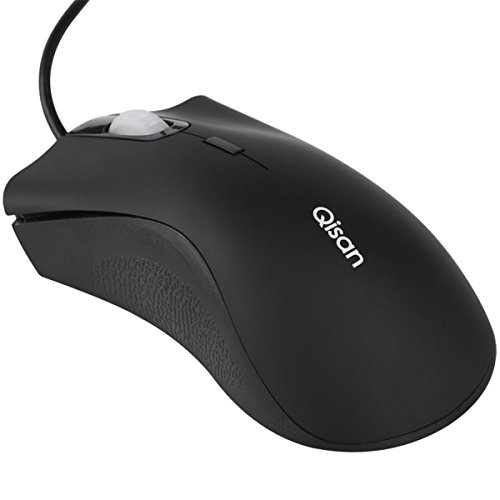Mouse: (3, 89, 500, 459)
